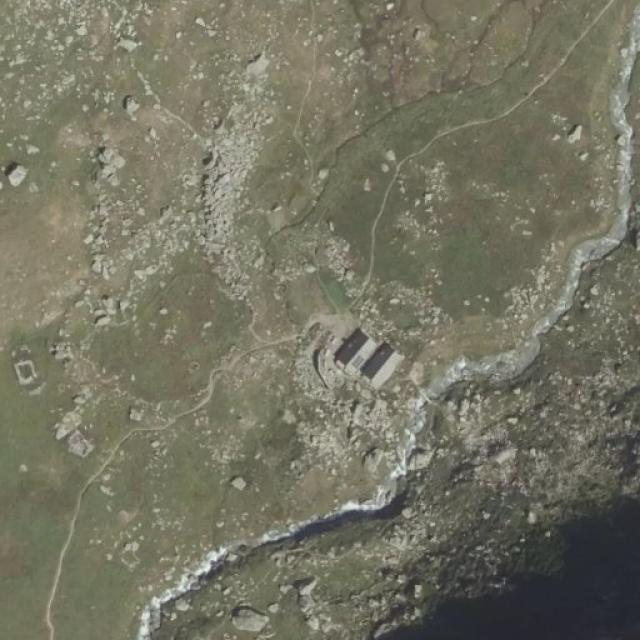maison: (341, 327, 371, 361), (369, 342, 399, 376)
